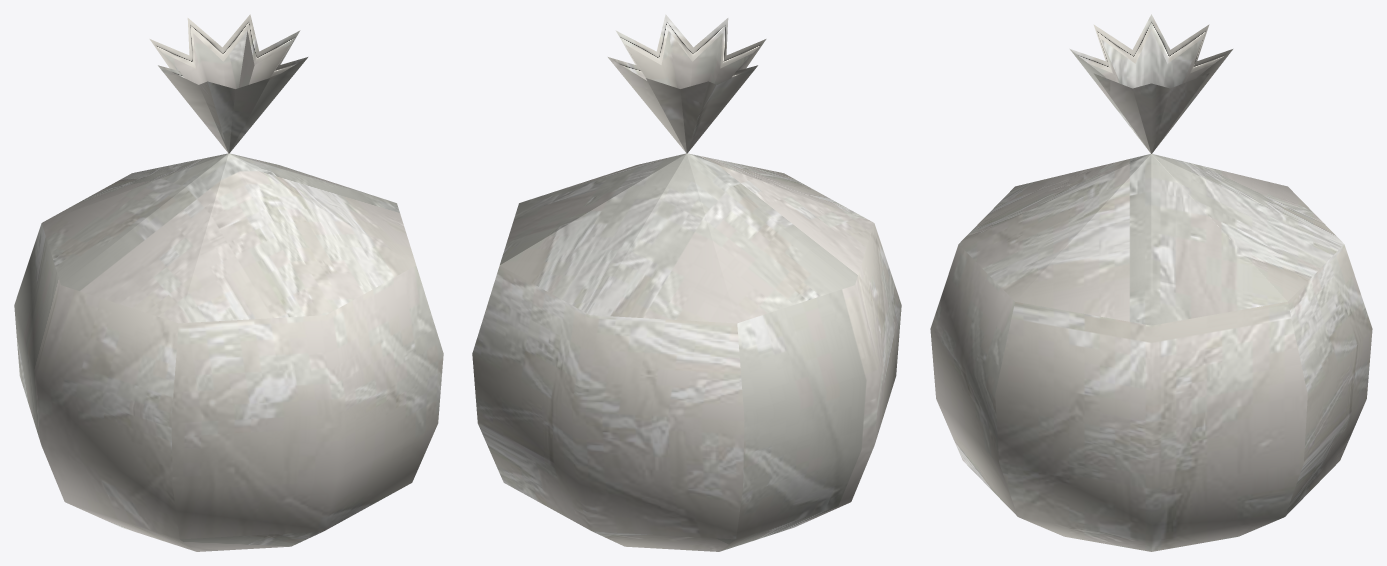
The model's file is BolsaPlastico.obj.
The picture shows the model from 3 angles, left to right: view 1: azimuth 30°, elevation 25°; view 2: azimuth 150°, elevation 25°; view 3: azimuth 270°, elevation 25°; orthographic projection.
Visible parts, largest first — view 1: BolsaPlastico2:Mesh; view 2: BolsaPlastico2:Mesh; view 3: BolsaPlastico2:Mesh.
Boxes of the visible parts, box(x1,y1,x2,y2) form: BolsaPlastico2:Mesh: box(14, 14, 443, 551); BolsaPlastico2:Mesh: box(472, 14, 901, 551); BolsaPlastico2:Mesh: box(930, 14, 1372, 551).
Bounding box in the file's own units: 0.2566 × 0.2889 × 0.2566.
1 material, 1 textured.
